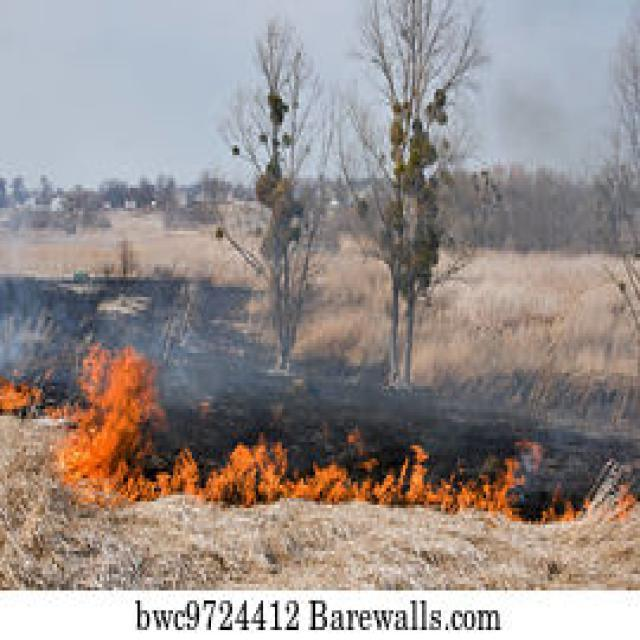Fire: (57, 333, 606, 532), (0, 349, 70, 422)
Smoke: (0, 293, 303, 415)
